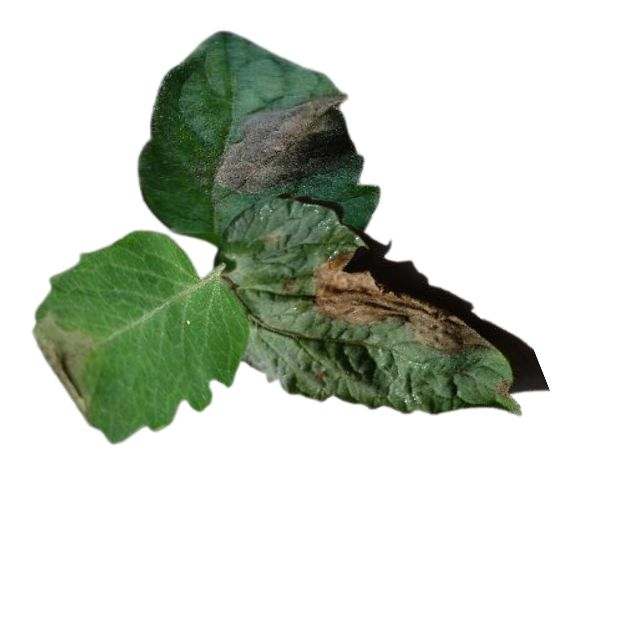Late_blight: (310, 246, 489, 357), (206, 93, 362, 196), (29, 311, 100, 416), (493, 377, 510, 394)
